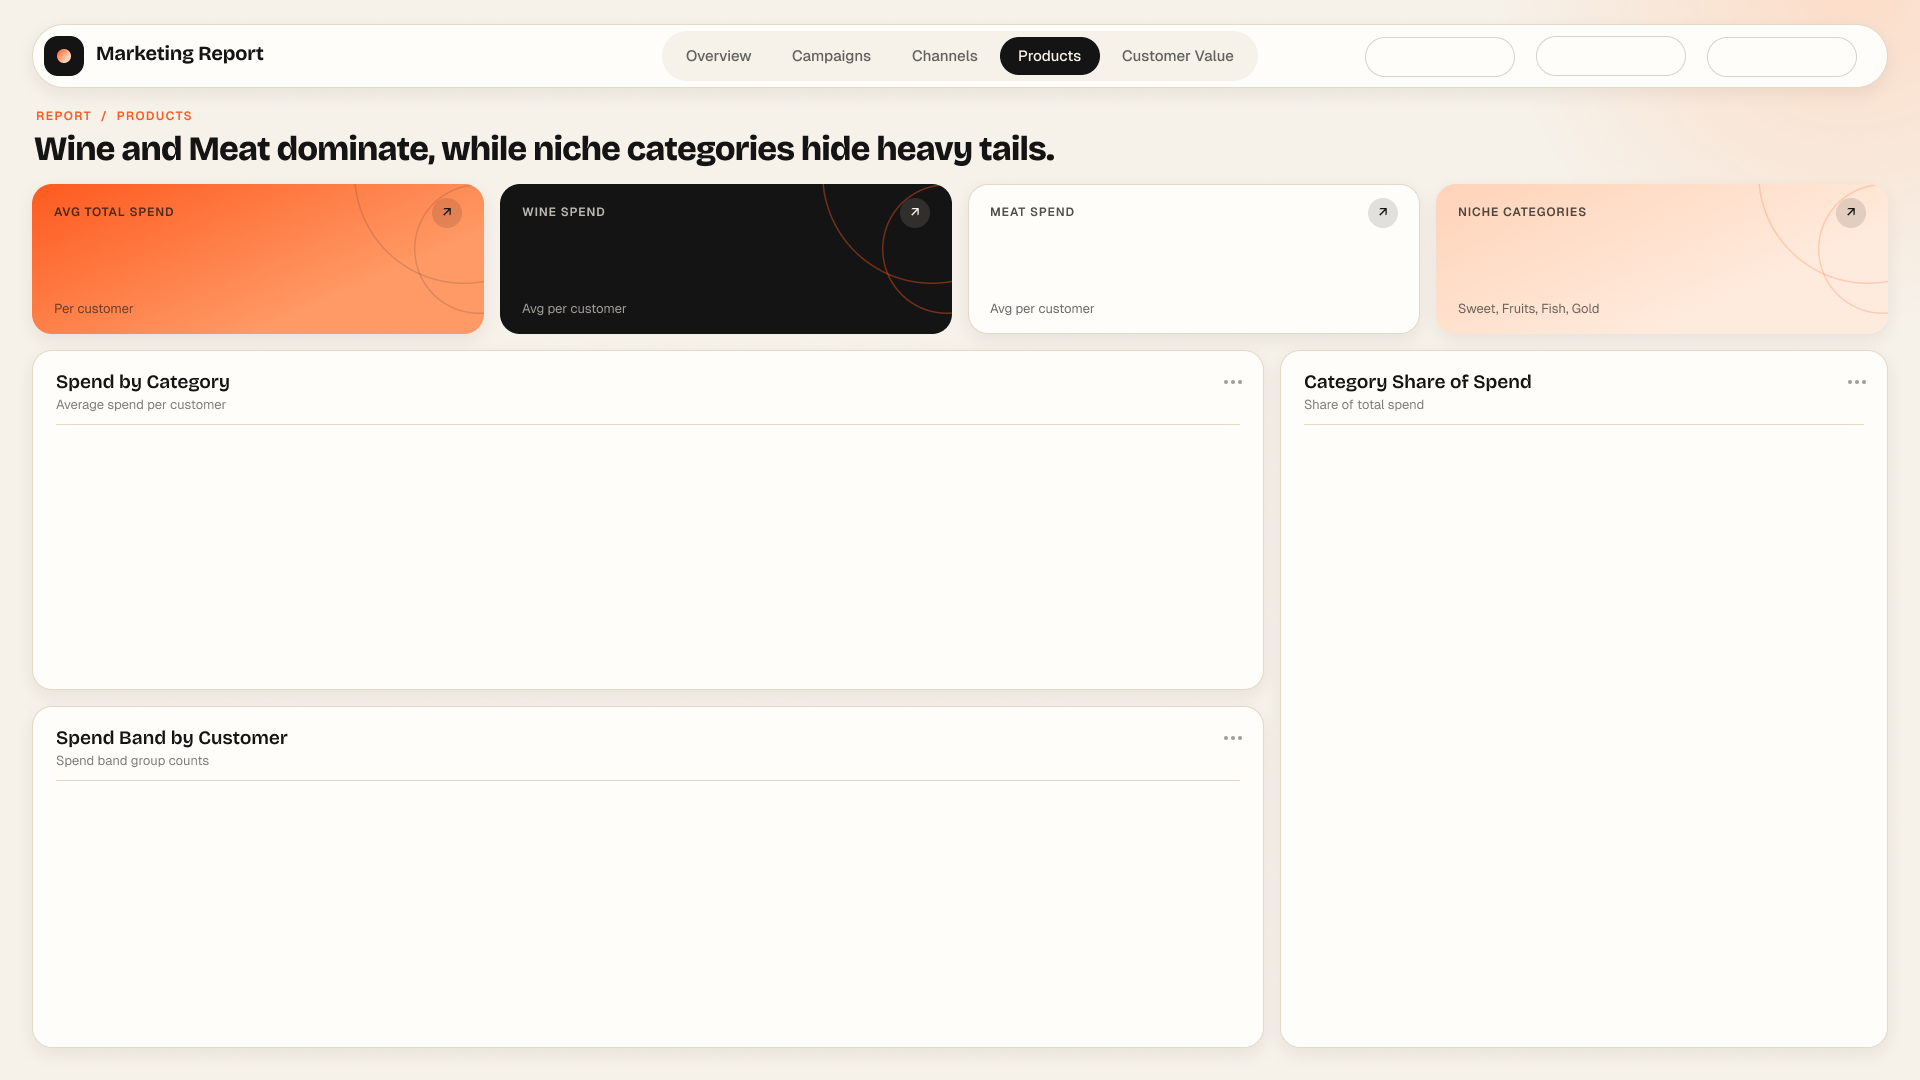

This screenshot's page, from the dashboard's own definition file:
{"tool":"powerbi","page":{"name":"Products","canvas":[1920,1080],"ordinal":3},"visuals":[{"type":"cardVisual","fields":{"Data":["marketing_data_cleaned.AVG Spend"]},"box":[16.4,171.1,198.7,161.9],"z":0},{"type":"actionButton","box":[662.3,27.1,110.4,43.4],"z":1000},{"type":"actionButton","box":[778.2,27.1,110.4,43.4],"z":2000},{"type":"actionButton","box":[888.5,27.1,110.4,43.4],"z":3000},{"type":"actionButton","box":[1112.9,27.1,128.5,43.4],"z":4000},{"type":"cardVisual","fields":{"Data":["marketing_data_cleaned.Avg Wine Spend"]},"box":[484.8,196.2,177.3,113.2],"z":5000},{"type":"cardVisual","fields":{"Data":["marketing_data_cleaned.Avg Meat Spend"]},"box":[960.2,196.2,177.3,113.2],"z":6000},{"type":"cardVisual","fields":{"Data":["marketing_data_cleaned.Niche Avg Spend"]},"box":[1431.8,196.2,177.3,113.2],"z":7000},{"type":"clusteredBarChart","fields":{"Category":["Products.Category"],"Y":["marketing_data_cleaned.Avg Category Spend"]},"box":[56.7,402.4,1185.1,292.6],"z":8000},{"type":"clusteredColumnChart","fields":{"Category":["marketing_data_cleaned.Spend Band"],"Y":["marketing_data_cleaned.Customers"]},"box":[56.1,780,1199.8,280.5],"z":9000},{"type":"treemap","fields":{"Group":["Products.Group","Products.Category"],"Values":["marketing_data_cleaned.Category Share of Spend"]},"box":[1289.5,434.2,590,614.1],"z":10000},{"type":"slicer","fields":{"Values":["marketing_data_cleaned.Income_Tier"]},"box":[1373,30,135.7,43.4],"z":11000},{"type":"slicer","fields":{"Values":["marketing_data_cleaned.Education"]},"box":[1543.9,30.8,135,43.4],"z":12000},{"type":"slicer","fields":{"Values":["marketing_data_cleaned.Country"]},"box":[1714,30,135,43],"z":13000}]}

Visuals, with their boxes in screenshot pixels (x1, y1, x2, y2), scaled from the page's 1920x1080 canvas onto the 1920x1080 screenshot:
cardVisual - marketing_data_cleaned.AVG Spend: (16,171,215,333)
actionButton: (662,27,773,70)
actionButton: (778,27,889,70)
actionButton: (888,27,999,70)
actionButton: (1113,27,1241,70)
cardVisual - marketing_data_cleaned.Avg Wine Spend: (485,196,662,309)
cardVisual - marketing_data_cleaned.Avg Meat Spend: (960,196,1138,309)
cardVisual - marketing_data_cleaned.Niche Avg Spend: (1432,196,1609,309)
clusteredBarChart - Products.Category x marketing_data_cleaned.Avg Category Spend: (57,402,1242,695)
clusteredColumnChart - marketing_data_cleaned.Spend Band x marketing_data_cleaned.Customers: (56,780,1256,1060)
treemap - Products.Group x Products.Category: (1290,434,1880,1048)
slicer - marketing_data_cleaned.Income_Tier: (1373,30,1509,73)
slicer - marketing_data_cleaned.Education: (1544,31,1679,74)
slicer - marketing_data_cleaned.Country: (1714,30,1849,73)
